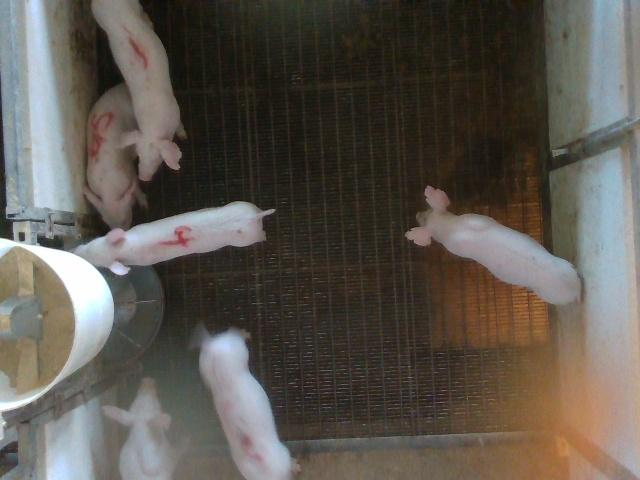pig-1: (92, 0, 185, 181)
pig-3: (199, 329, 290, 479)
pig-4: (74, 201, 274, 274)
pig-5: (84, 84, 148, 229)
